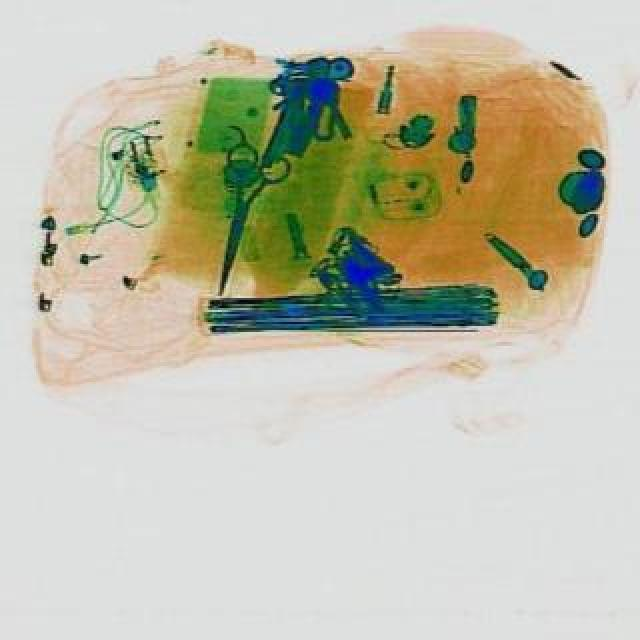pliers: (190, 142, 298, 306)
